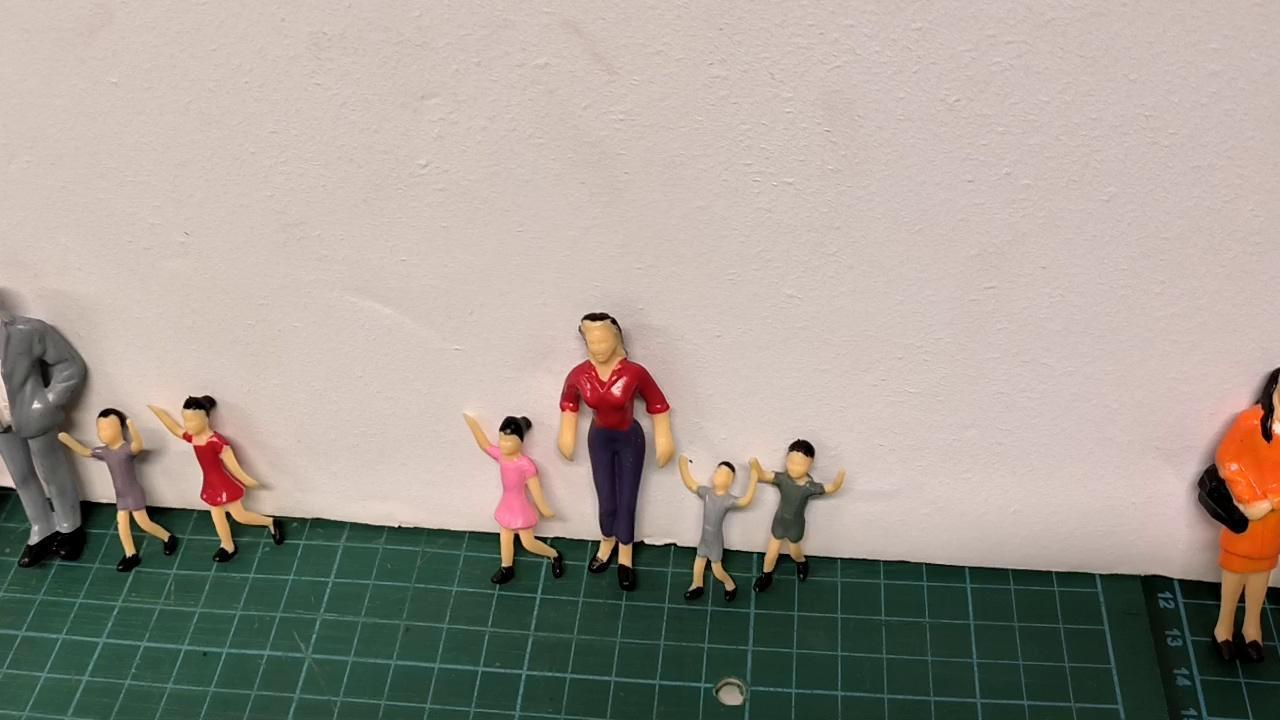human: (557, 311, 677, 604), (0, 280, 88, 574), (146, 394, 290, 567), (1197, 365, 1280, 656), (58, 408, 178, 577), (463, 412, 565, 587), (756, 433, 852, 584), (680, 455, 759, 602)
